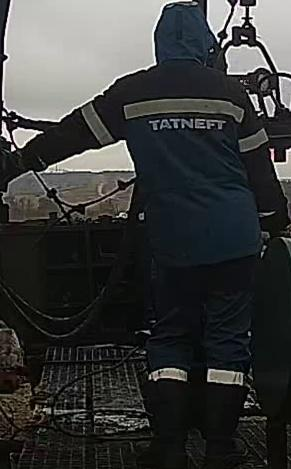gloves: (0, 144, 53, 196)
vest: (91, 62, 273, 264)
